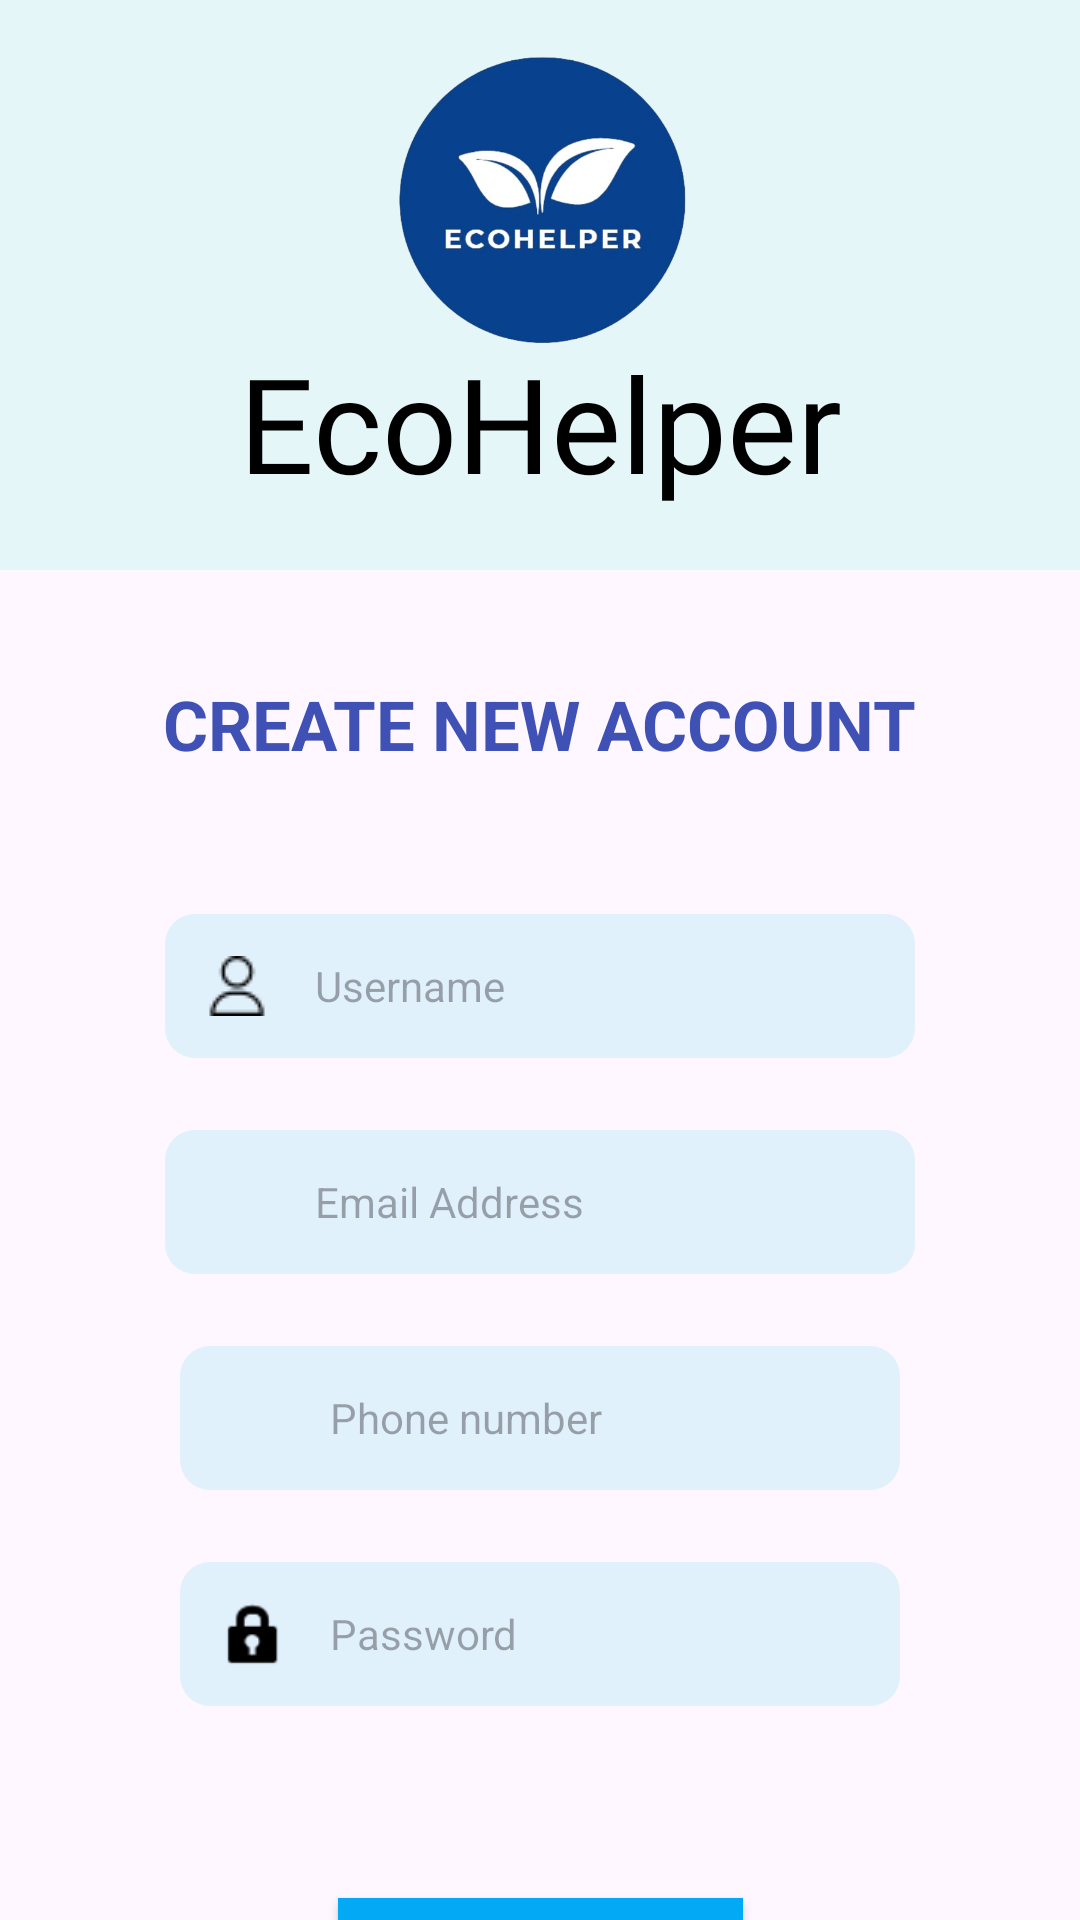

Point at icon controls on the screen. Image size 1080*1920, points as [x,y].
lock idle: [252,1634]
profileicon: [237,986]
